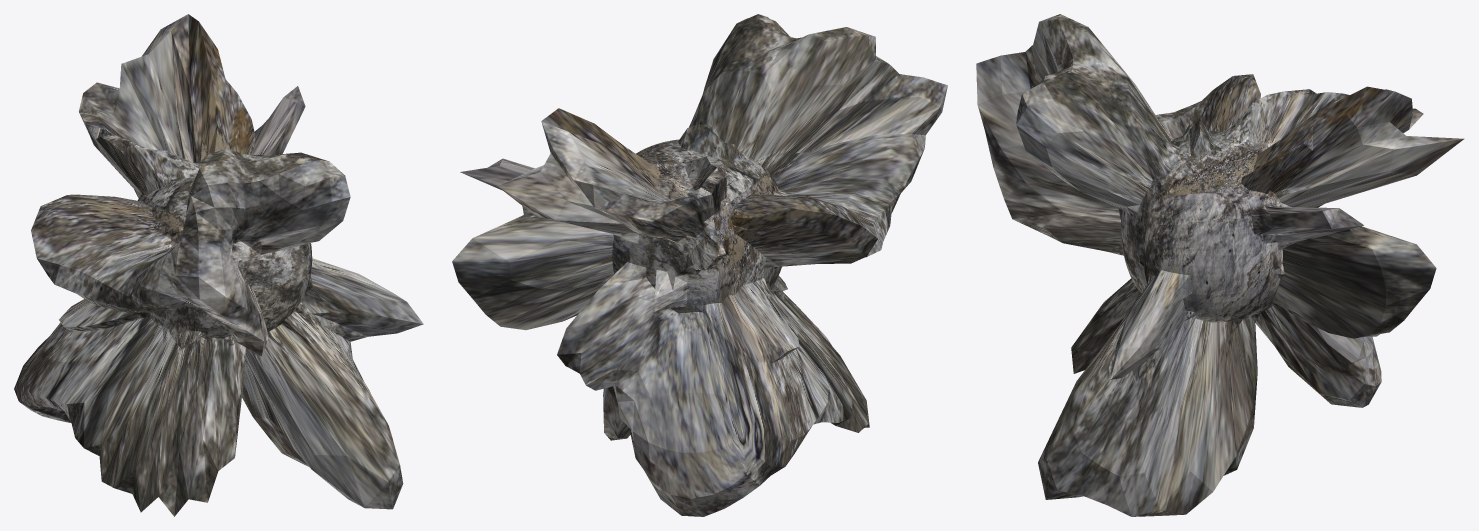
The model's file is ast3.obj.
3 renders of one model, left to right at view 1: azimuth 30°, elevation 25°; view 2: azimuth 150°, elevation 25°; view 3: azimuth 270°, elevation 25°, orthographic. The views are drawn at different scales.
Parts seen in each view (by area): view 1: Cube; view 2: Cube; view 3: Cube.
Part boxes in pixels (x1,y1,x2,y2): Cube: [14, 14, 423, 516]; Cube: [452, 14, 947, 516]; Cube: [976, 14, 1464, 516].
Size of the model in its own units: 1.48 by 1.68 by 1.81.
1 material, 1 textured.
